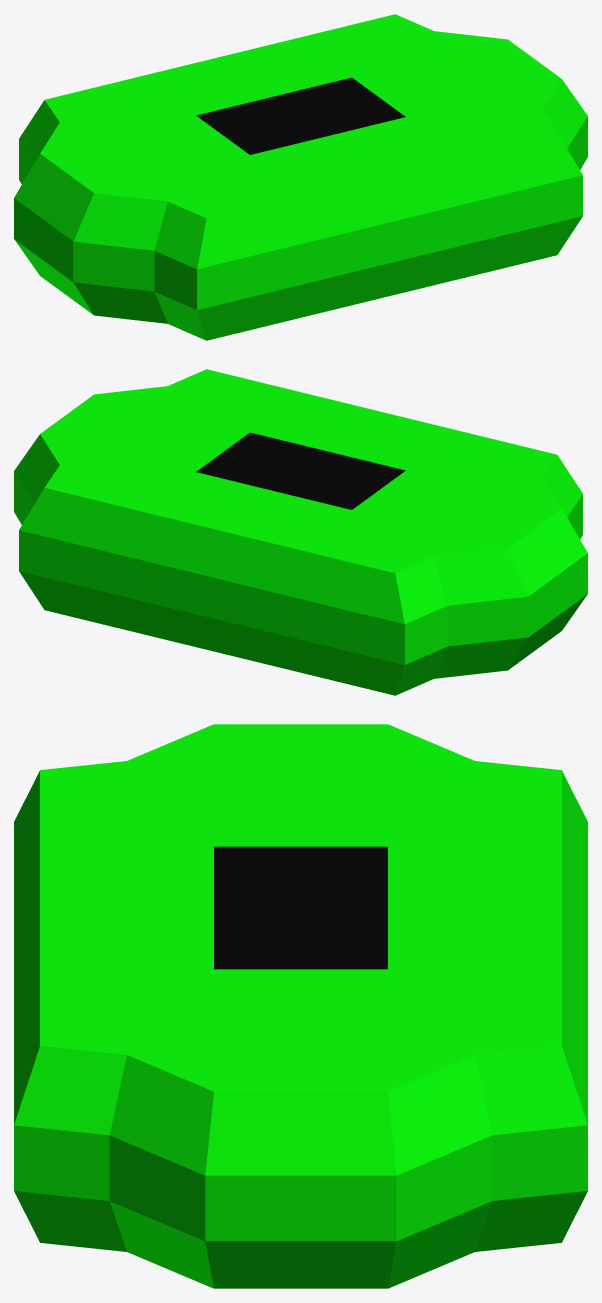
The model's file is Nota_Verde.fbx.
3 renders of one model, top to bottom at view 1: azimuth 30°, elevation 25°; view 2: azimuth 150°, elevation 25°; view 3: azimuth 270°, elevation 25°, orthographic. The views are drawn at different scales.
Parts seen in each view (by area): view 1: Nota_Verde; view 2: Nota_Verde; view 3: Nota_Verde.
Part boxes in pixels (left/top/right/bottom): Nota_Verde: left=14, top=14, right=587, bottom=340; Nota_Verde: left=14, top=369, right=587, bottom=695; Nota_Verde: left=14, top=724, right=587, bottom=1288.
Size of the model in its own units: 2.2 by 0.5 by 1.32.
